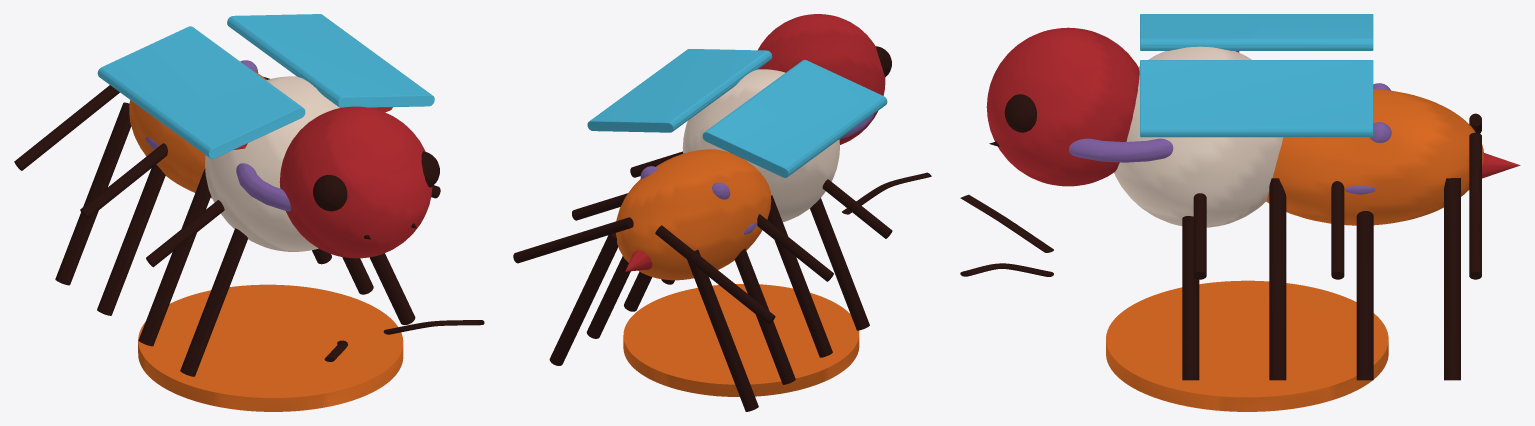
The model's file is 0028_昆虫图鉴_萤火虫.glb.
3 views of the same model, side by side, from view 1: azimuth 30°, elevation 25°; view 2: azimuth 150°, elevation 25°; view 3: azimuth 270°, elevation 25° (orthographic). The views are drawn at different scales.
Parts seen in each view (by area): view 1: card_0028; view 2: card_0028; view 3: card_0028.
Part boxes in pixels (x1,y1,x2,y2): card_0028: (14, 14, 484, 411); card_0028: (513, 14, 931, 411); card_0028: (960, 14, 1520, 411).
Size of the model in its own units: 1 by 1 by 1.6.
